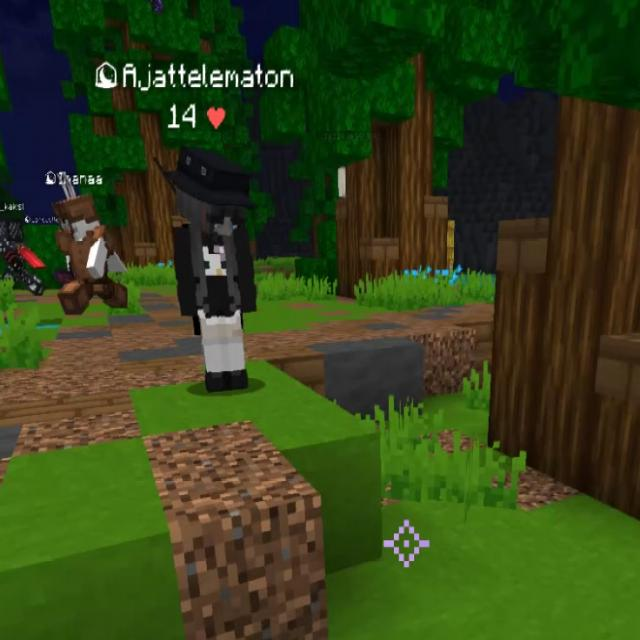Player: (171, 145, 258, 392), (50, 194, 130, 314)
